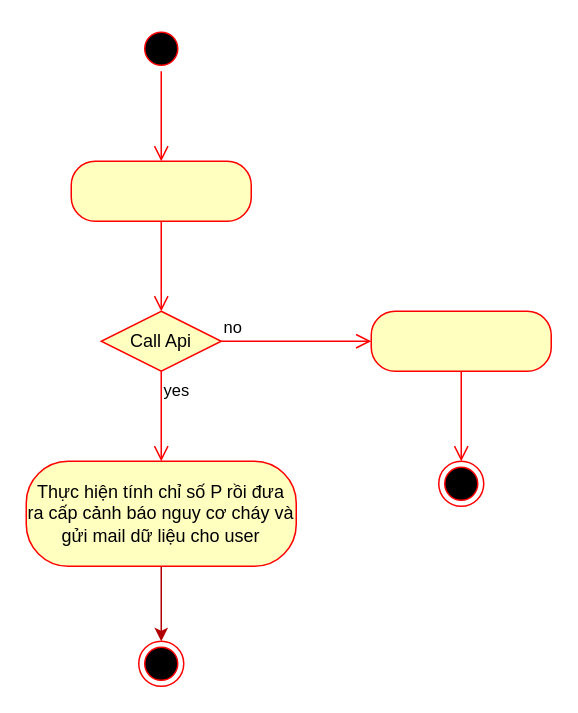
The diagram is 578 pixels wide and 713 high, and some of its shapes have lost their labels. The box of each missing label's shape, as (x1, y1, x2, y2) in pixels:
Báo lỗi: (370, 310, 551, 371)
Kích hoạt chương trình lấy dữ liệu: (70, 160, 251, 221)
